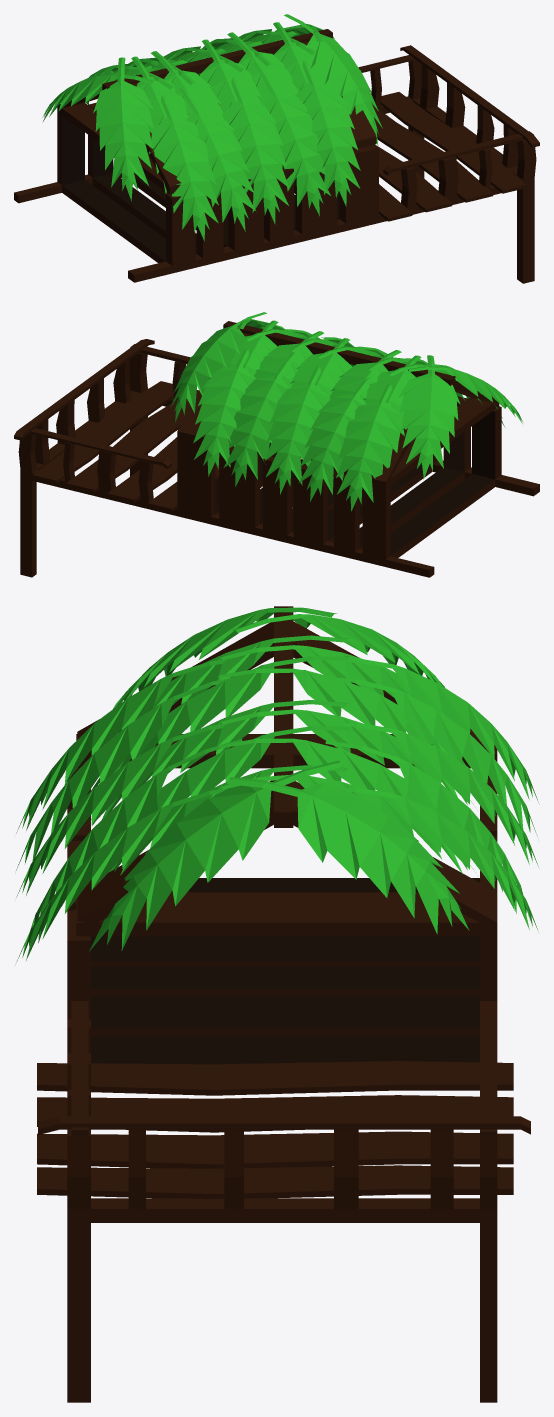
The model's file is ProductSafe.FBX.
The picture shows the model from 3 angles, top to bottom: view 1: azimuth 30°, elevation 25°; view 2: azimuth 150°, elevation 25°; view 3: azimuth 270°, elevation 25°; orthographic projection. The views are drawn at different scales.
Parts seen in each view (by area): view 1: ProductSafe; view 2: ProductSafe; view 3: ProductSafe.
Boxes of the visible parts, x1,y1,x2,y2 form: ProductSafe: (14, 14, 539, 283); ProductSafe: (14, 312, 539, 577); ProductSafe: (16, 606, 539, 1402).
Bounding box in the file's own units: 44.58 × 26.8 × 26.62.
4 materials, 1 textured.
